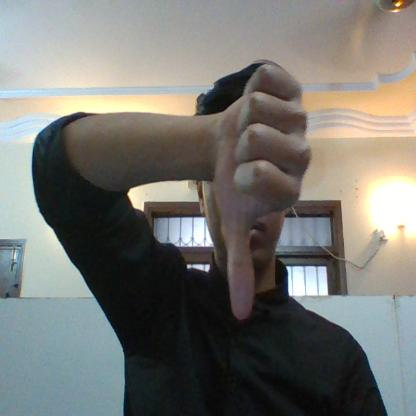thumbs-down: (225, 69, 308, 324)
